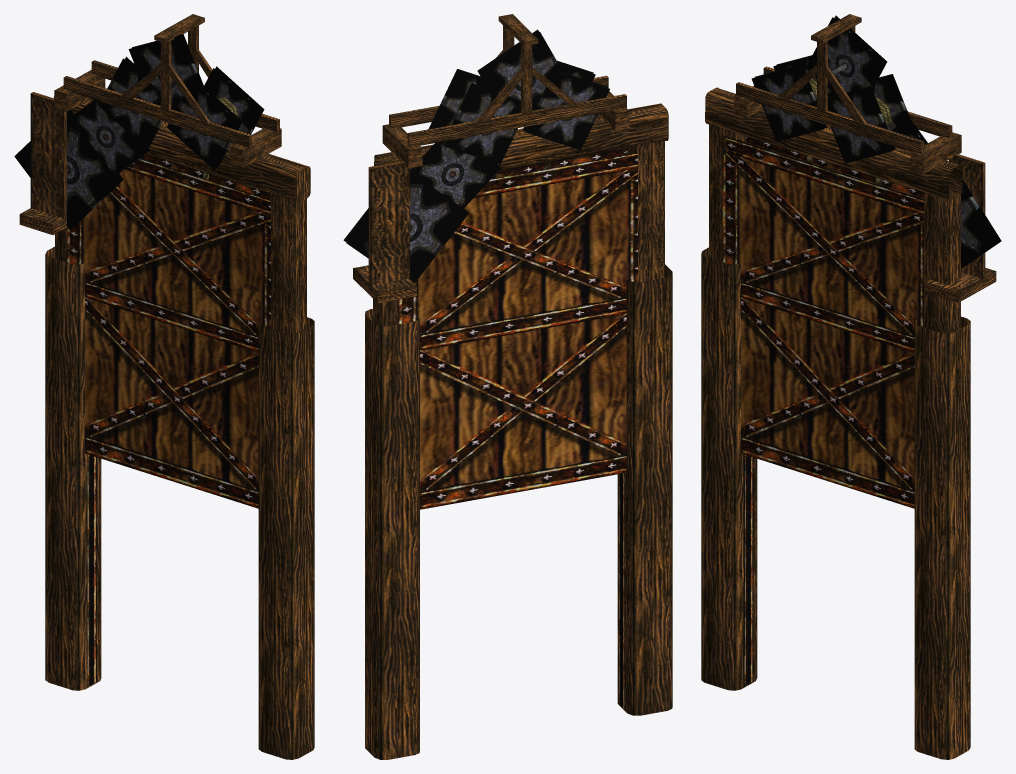
Rendered from CINE11_GANDALFANDBILBOREUNITED_SHOT03_GATEA.fbx.
3 renders of one model, left to right at view 1: azimuth 90°, elevation 25°; view 2: azimuth 150°, elevation 25°; view 3: azimuth 270°, elevation 25°, orthographic.
Visible parts, largest first — view 1: CINE11_GANDALFANDBILBOREUNITED_SHOT03_GATEA; view 2: CINE11_GANDALFANDBILBOREUNITED_SHOT03_GATEA; view 3: CINE11_GANDALFANDBILBOREUNITED_SHOT03_GATEA.
Part boxes in pixels (<box>): CINE11_GANDALFANDBILBOREUNITED_SHOT03_GATEA: <box>14,14,314,759</box>; CINE11_GANDALFANDBILBOREUNITED_SHOT03_GATEA: <box>343,14,672,759</box>; CINE11_GANDALFANDBILBOREUNITED_SHOT03_GATEA: <box>701,14,1001,759</box>.
Bounding box in the file's own units: 24671 × 82575 × 32661.
Materials: 7 (7 with a texture image).
